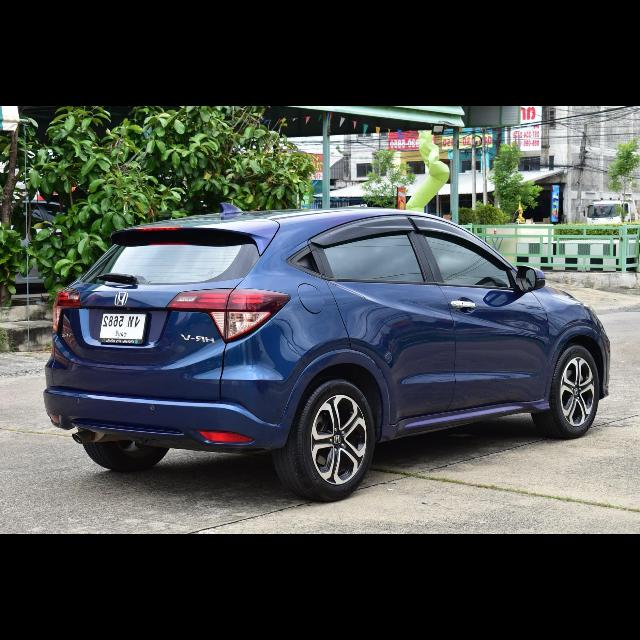cars: (35, 195, 620, 505)
